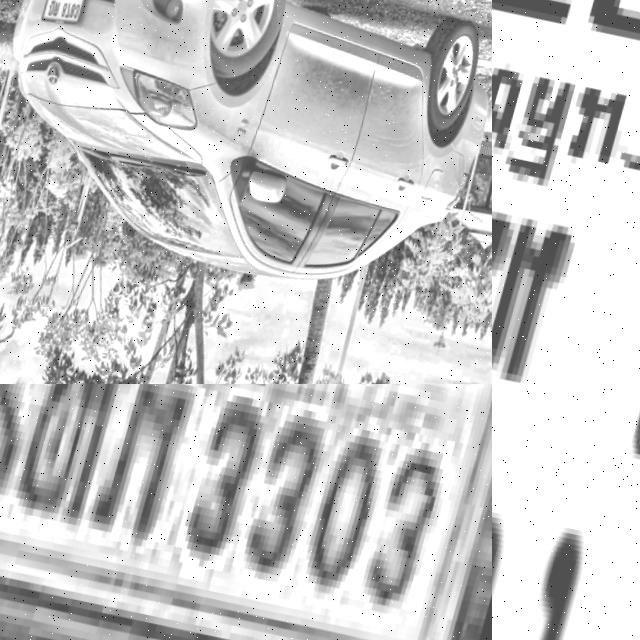license-plate: (0, 384, 492, 640), (492, 0, 640, 384), (492, 384, 640, 640), (42, 0, 93, 27)
